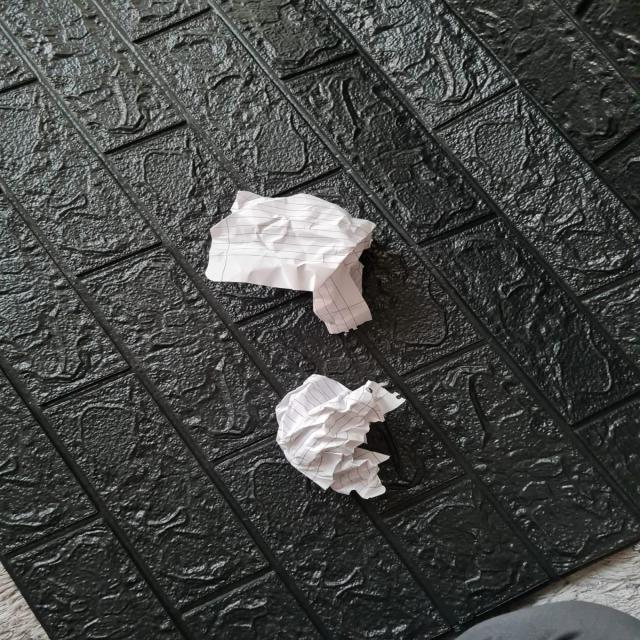paper: (210, 190, 380, 328), (271, 370, 409, 498)
